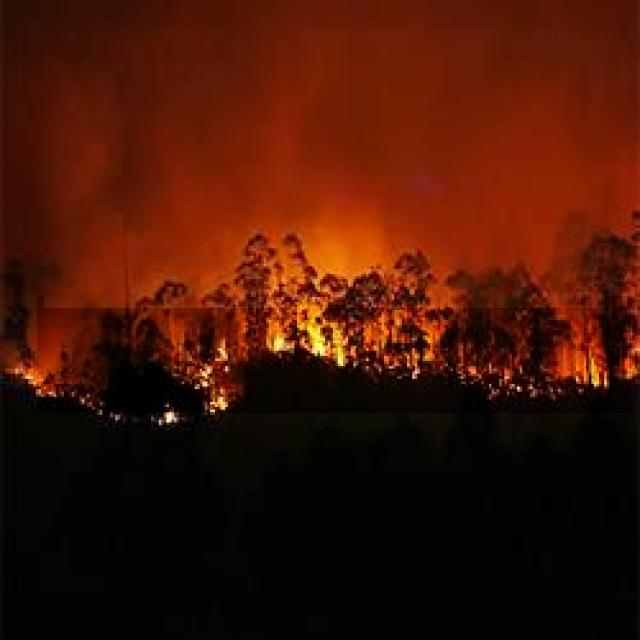Fire: (37, 296, 631, 413)
Smoke: (44, 28, 605, 308)
